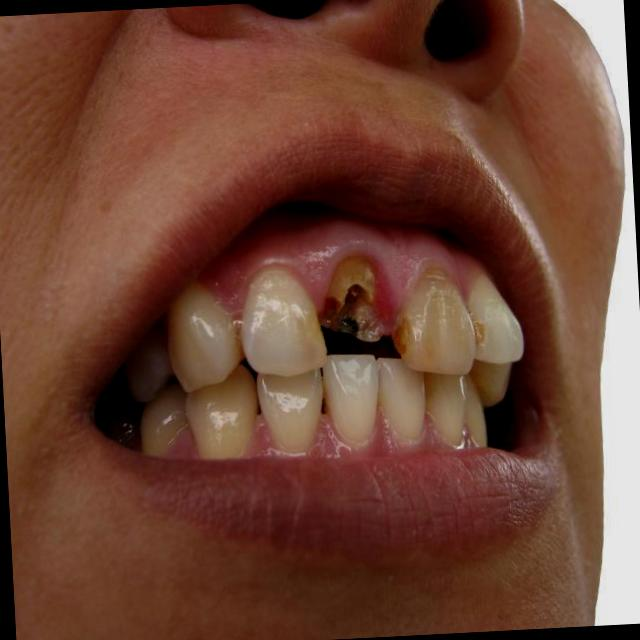caries: (314, 253, 393, 352)
